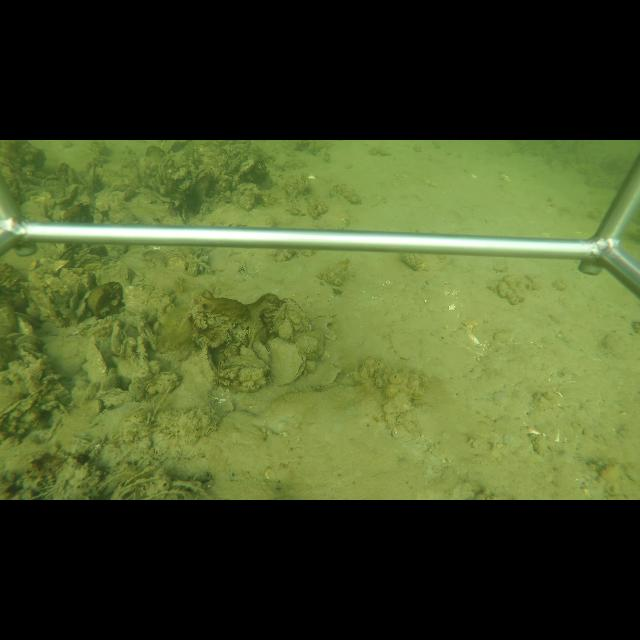Oyster-Closed: (267, 336, 308, 388), (283, 295, 315, 333), (193, 343, 218, 389), (86, 338, 109, 384)
